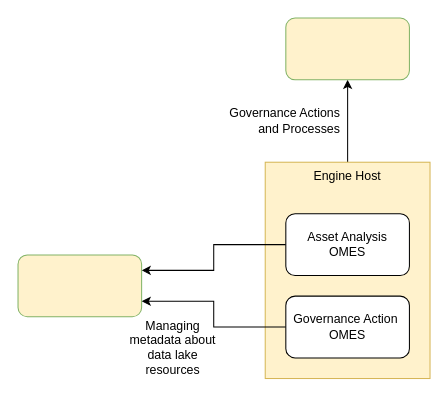
The diagram is 448 pixels wide and 397 high, and some of its shapes have lost their labels. The shapes that lost their labels are listed below. From the top down, each one's centre as x and y in pixels, then its label:
At point 347,48: "Governance Team Metadata Server".
At point 79,285: "Data Lake Metadata Server".
